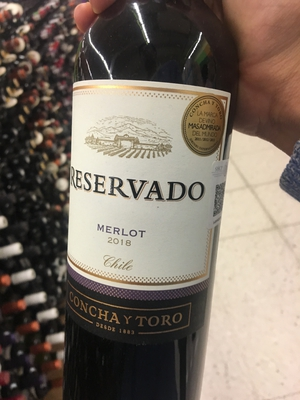reservado merlot: (54, 25, 260, 379)
